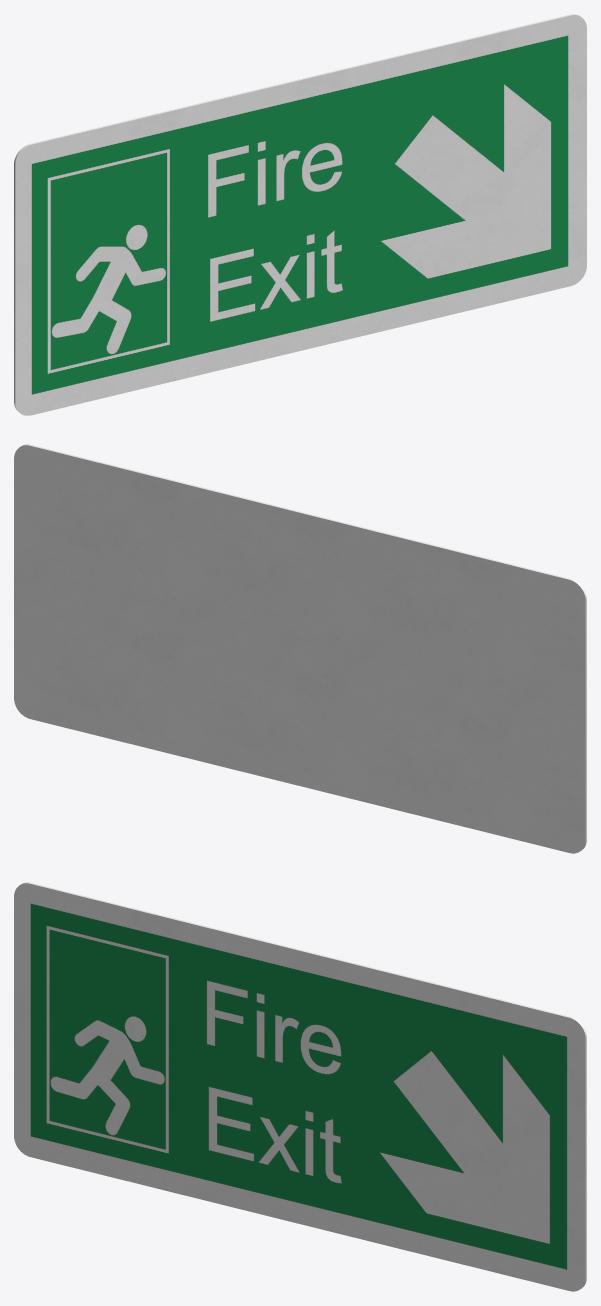
The model's file is fire_exit_sign.glb.
3 views of the same model, one above another, from view 1: azimuth 30°, elevation 25°; view 2: azimuth 150°, elevation 25°; view 3: azimuth 330°, elevation 25° (orthographic).
Visible parts, largest first — view 1: Plane__0_5; view 2: Plane__0_5; view 3: Plane__0_5.
Part boxes in pixels (<box>): Plane__0_5: <box>14,14,586,415</box>; Plane__0_5: <box>14,444,586,853</box>; Plane__0_5: <box>14,882,586,1291</box>.
Bounding box in the file's own units: 0.3947 × 0.1794 × 0.00461.
Materials: 1 (1 with a texture image).
